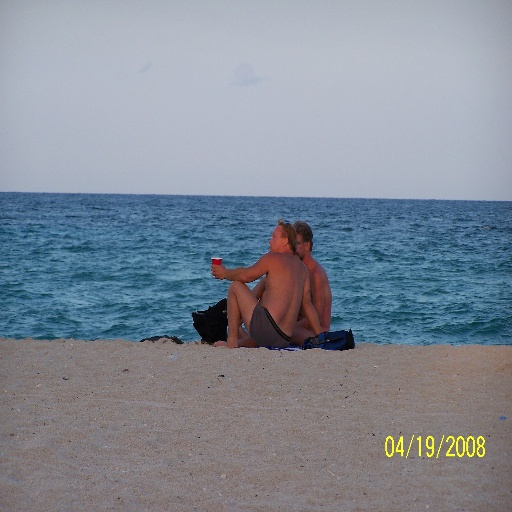hand: (208, 262, 225, 281)
